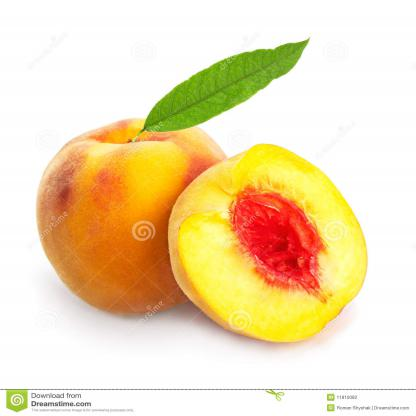Peach leaf: (133, 36, 312, 144)
